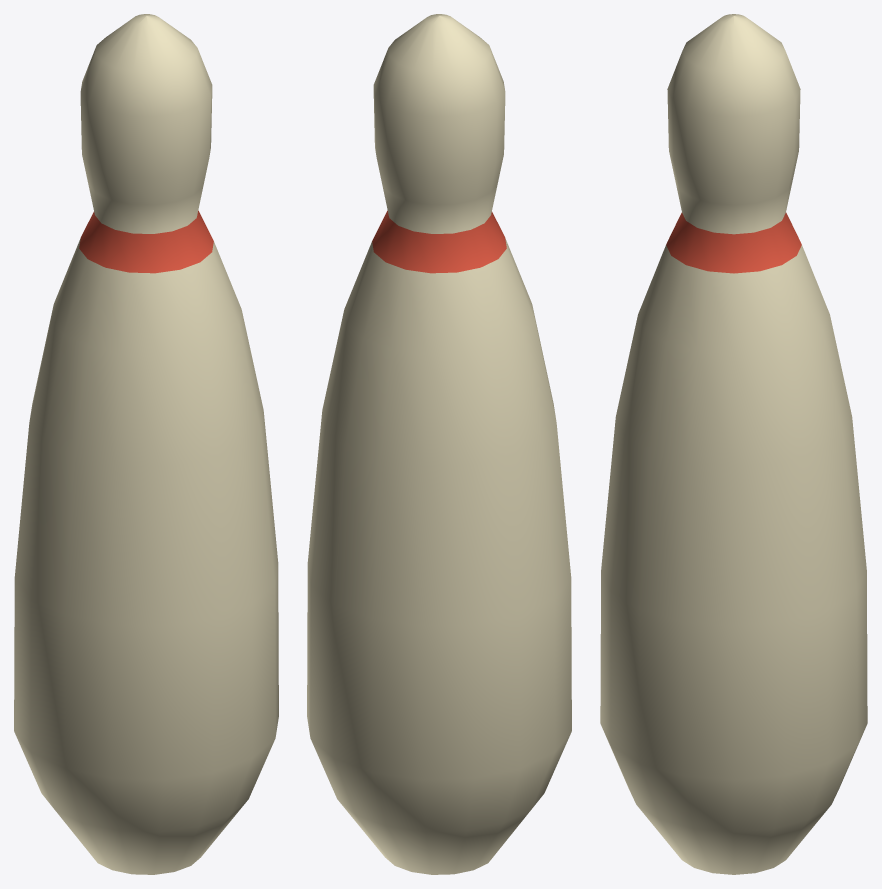
File: BowlingPin.fbx
3 views of the same model, side by side, from view 1: azimuth 30°, elevation 25°; view 2: azimuth 150°, elevation 25°; view 3: azimuth 270°, elevation 25° (orthographic).
Visible parts, largest first — view 1: Pin; view 2: Pin; view 3: Pin.
Part boxes in pixels (bbox=[...]): Pin: bbox=[14, 14, 278, 874]; Pin: bbox=[307, 14, 571, 874]; Pin: bbox=[600, 14, 867, 874].
Bounding box in the file's own units: 0.0658 × 0.0658 × 0.2269.
